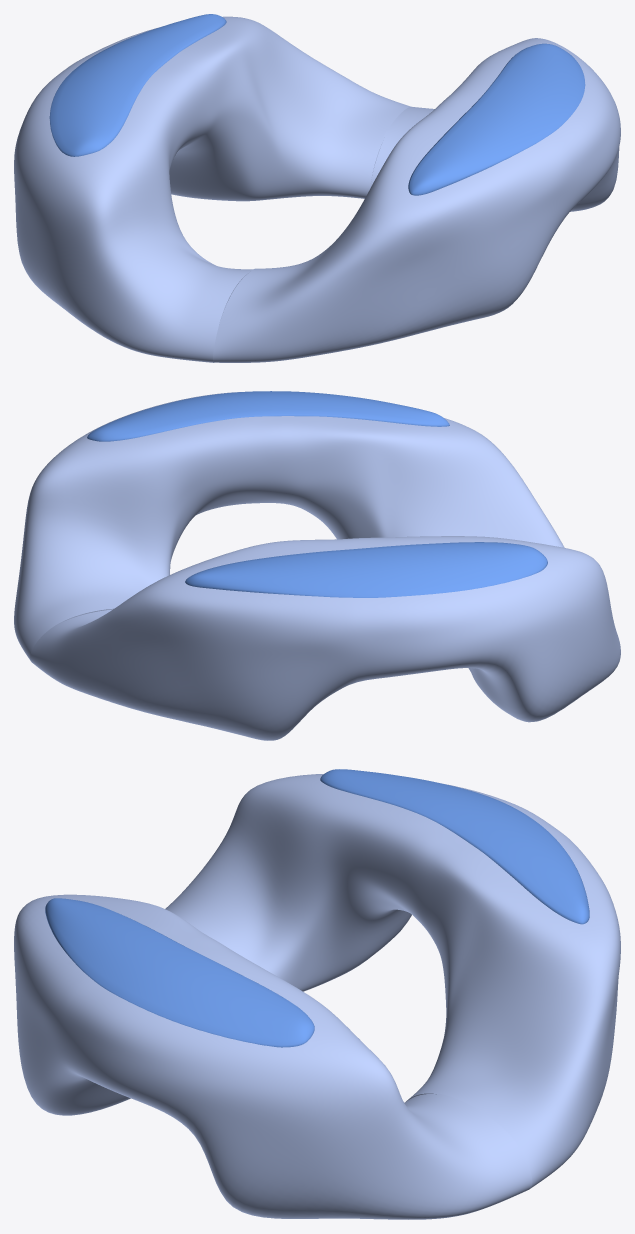
3 renders of one model, top to bottom at view 1: azimuth 30°, elevation 25°; view 2: azimuth 150°, elevation 25°; view 3: azimuth 270°, elevation 25°, orthographic. The views are drawn at different scales.
Visible parts, largest first — view 1: B5-24-古巴链-OK-版-倒铜 1.006, B5-24-古巴链-OK-版-倒铜 1.007, fill.001, fill; view 2: B5-24-古巴链-OK-版-倒铜 1.006, B5-24-古巴链-OK-版-倒铜 1.007, fill, fill.001; view 3: B5-24-古巴链-OK-版-倒铜 1.006, B5-24-古巴链-OK-版-倒铜 1.007, fill.001, fill.
Boxes of the visible parts, x1,y1,x2,y2 form: B5-24-古巴链-OK-版-倒铜 1.006: [14, 16, 411, 362]; B5-24-古巴链-OK-版-倒铜 1.007: [213, 38, 620, 362]; fill.001: [408, 43, 585, 195]; fill: [49, 14, 226, 156]; B5-24-古巴链-OK-版-倒铜 1.006: [30, 536, 620, 740]; B5-24-古巴链-OK-版-倒铜 1.007: [14, 392, 564, 660]; fill: [185, 542, 547, 597]; fill.001: [87, 391, 449, 441]; B5-24-古巴链-OK-版-倒铜 1.006: [165, 774, 620, 1187]; B5-24-古巴链-OK-版-倒铜 1.007: [14, 894, 532, 1219]; fill.001: [45, 898, 314, 1047]; fill: [320, 769, 589, 924].
Size of the model in its own units: 0.1927 by 0.0576 by 0.1591.
